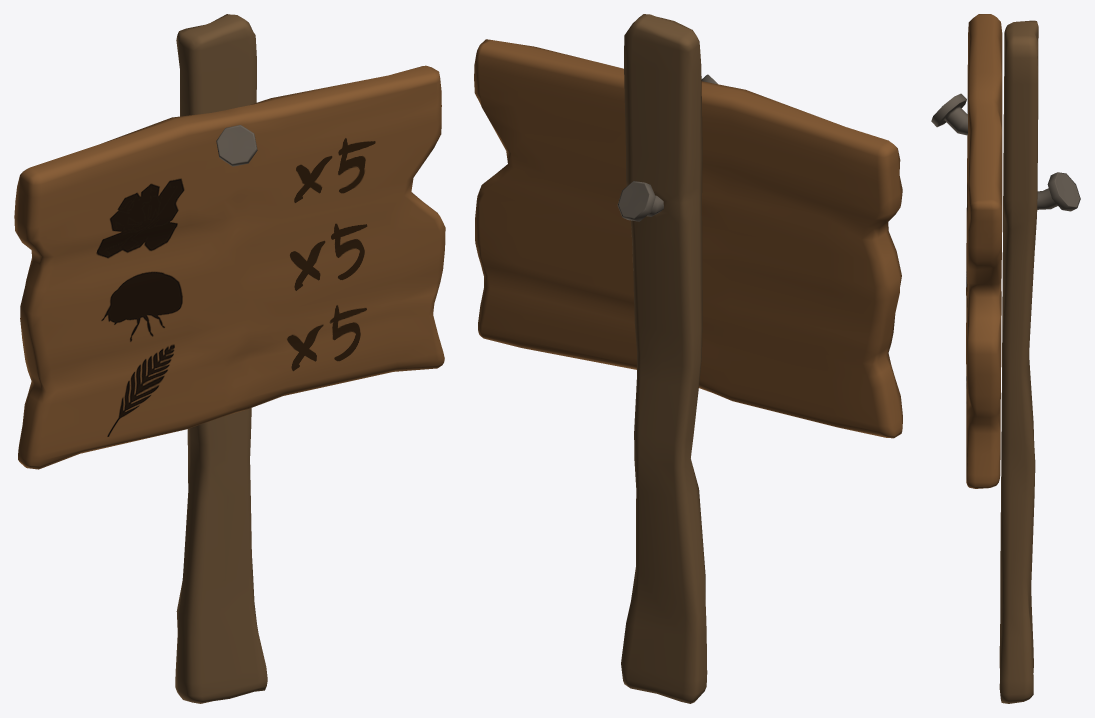
File: jungles_sign.fbx
3 renders of one model, left to right at view 1: azimuth 30°, elevation 25°; view 2: azimuth 150°, elevation 25°; view 3: azimuth 270°, elevation 25°, orthographic. The views are drawn at different scales.
Parts seen in each view (by area): view 1: Sign, Pole, Nail01; view 2: Sign, Pole, Nail02; view 3: Pole, Sign, Nail02, Nail01.
Boxes of the visible parts, x1,y1,x2,y2 form: Sign: [14, 65, 445, 469]; Pole: [175, 14, 267, 703]; Nail01: [216, 125, 257, 166]; Sign: [474, 39, 902, 438]; Pole: [621, 14, 707, 703]; Nail02: [617, 181, 663, 221]; Pole: [999, 20, 1038, 703]; Sign: [966, 14, 1002, 488]; Nail02: [1037, 172, 1080, 211]; Nail01: [931, 93, 967, 135].
Size of the model in its own units: 3893 by 5993 by 1232.
